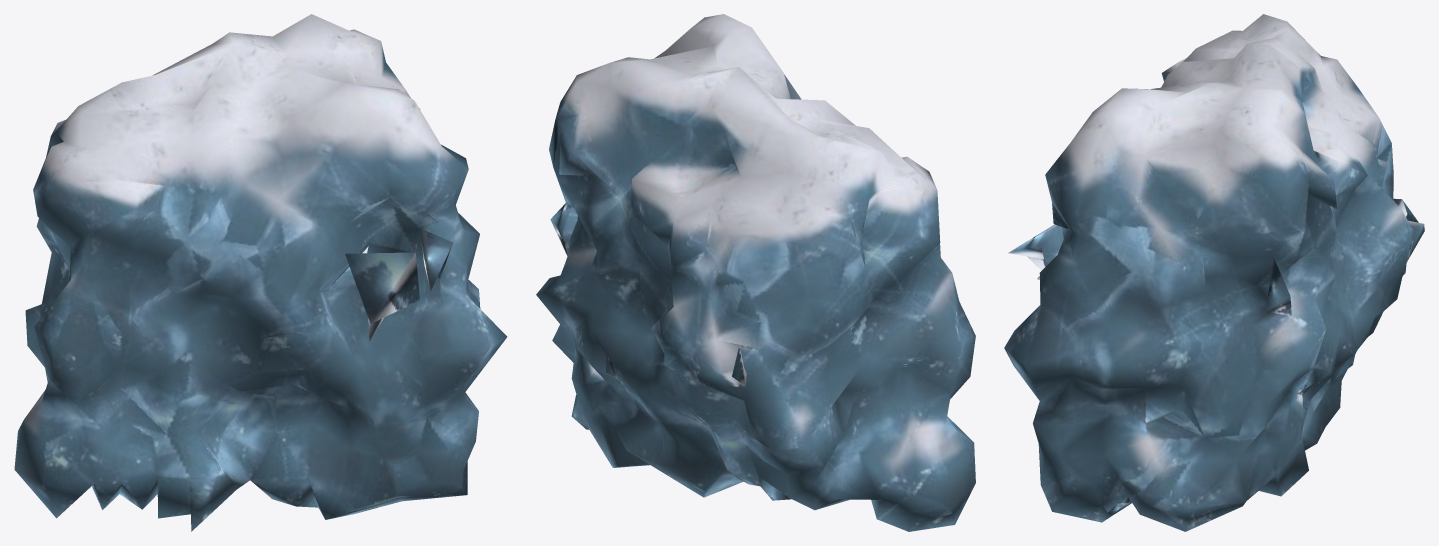
The model's file is serac_b.glb.
3 views of the same model, side by side, from view 1: azimuth 30°, elevation 25°; view 2: azimuth 150°, elevation 25°; view 3: azimuth 270°, elevation 25° (orthographic). The views are drawn at different scales.
Parts seen in each view (by area): view 1: serac_b; view 2: serac_b; view 3: serac_b.
Part boxes in pixels (<box>): serac_b: <box>14,14,507,531</box>; serac_b: <box>536,14,975,531</box>; serac_b: <box>1004,14,1424,531</box>.
Bounding box in the file's own units: 7.73 × 7.98 × 7.16.
Materials: 1 (1 with a texture image).
